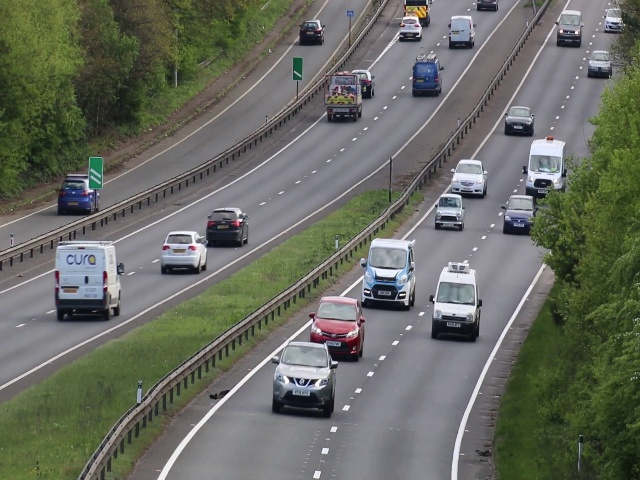car: (54, 243, 122, 319), (272, 344, 334, 417), (360, 244, 413, 307), (432, 274, 479, 337), (310, 296, 359, 342), (320, 72, 364, 121), (159, 227, 207, 271), (204, 205, 249, 246), (525, 154, 565, 192), (407, 61, 445, 98), (60, 176, 91, 213), (505, 195, 532, 234), (453, 161, 485, 192), (436, 195, 463, 230), (558, 8, 582, 45), (449, 15, 476, 47), (505, 105, 532, 137), (587, 46, 609, 77), (398, 15, 423, 41), (299, 20, 323, 46)
